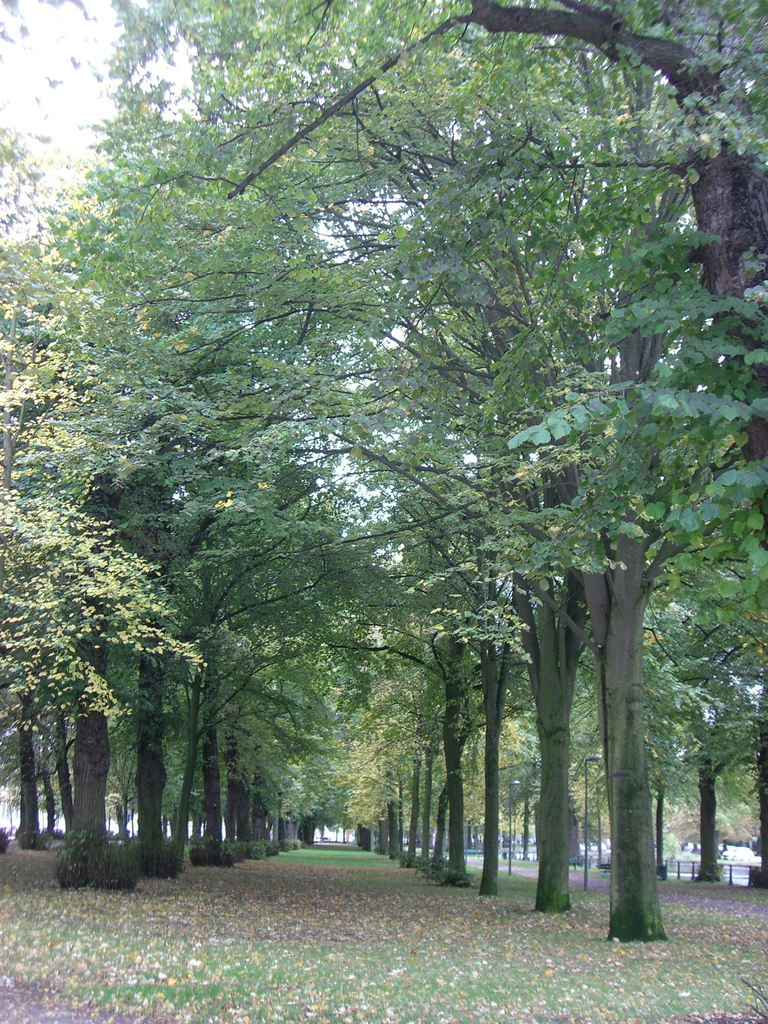Tree: (0, 0, 768, 944)
